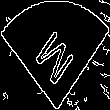M_SW: (30, 20, 80, 90)
